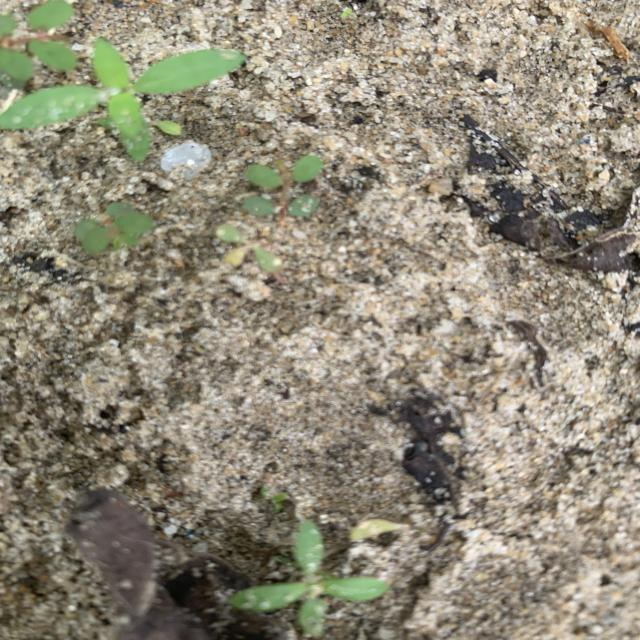weed: (0, 38, 246, 161), (228, 520, 388, 636), (216, 155, 323, 283), (0, 0, 77, 83), (74, 202, 154, 255)
